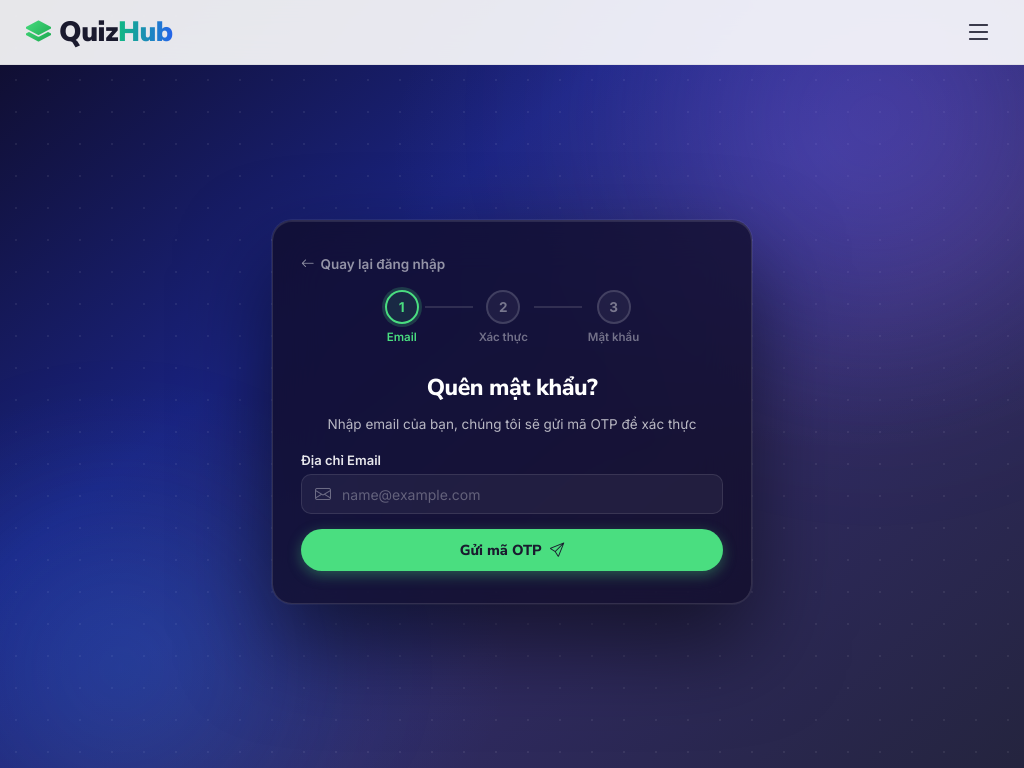
Test: ForgotPasswordPage Component - V1 4-Step Parity and Auth Behavior › 5. prevents double submission while requestOtp mutation is pending
Type "user@example.com" into the field labelled "Địa chỉ Email" at [512, 494], box [301,474,723,514]
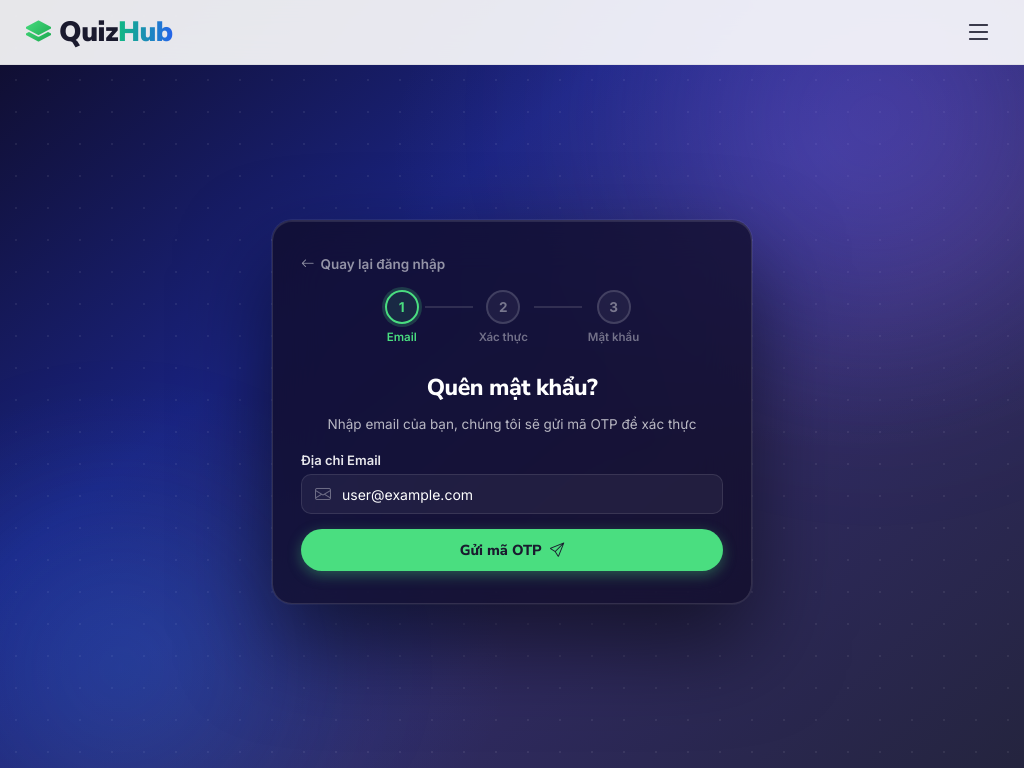
Click the button "Gửi mã OTP" at [512, 550], box [301,529,723,571]
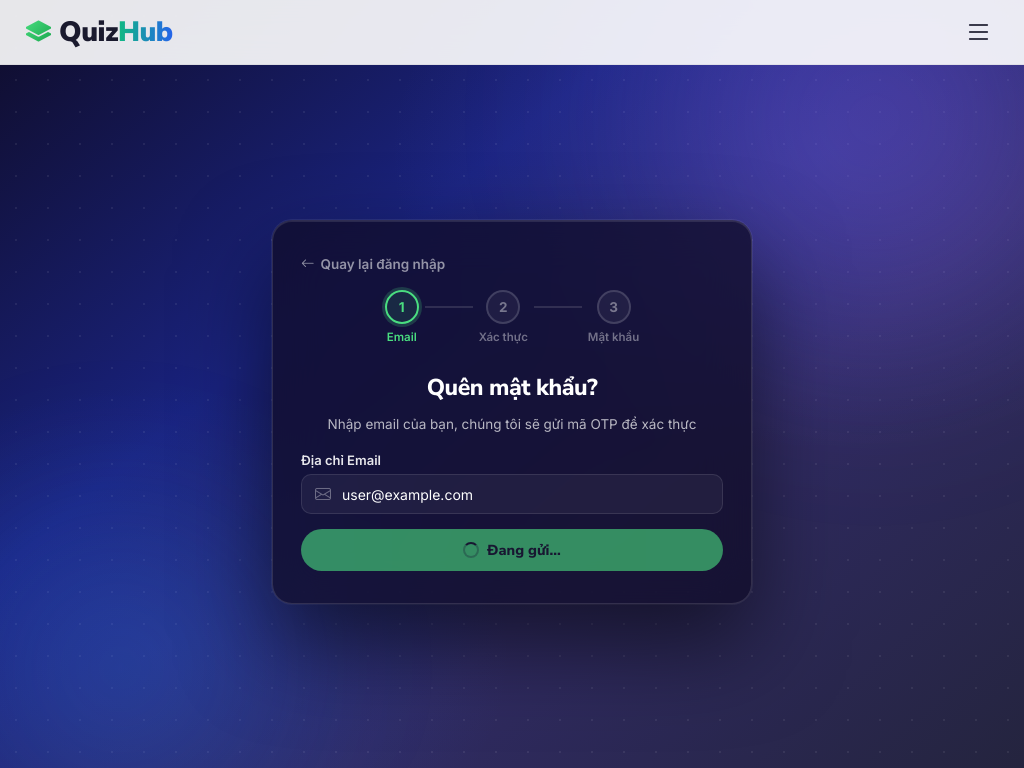
Result: the button named "Gửi mã OTP" is disabled
Result: the text "Đang gửi..." is shown at [487,540,561,560]
Second click does nothing
Click the button named "Gửi mã OTP" at [512, 550], box [301,529,723,571]
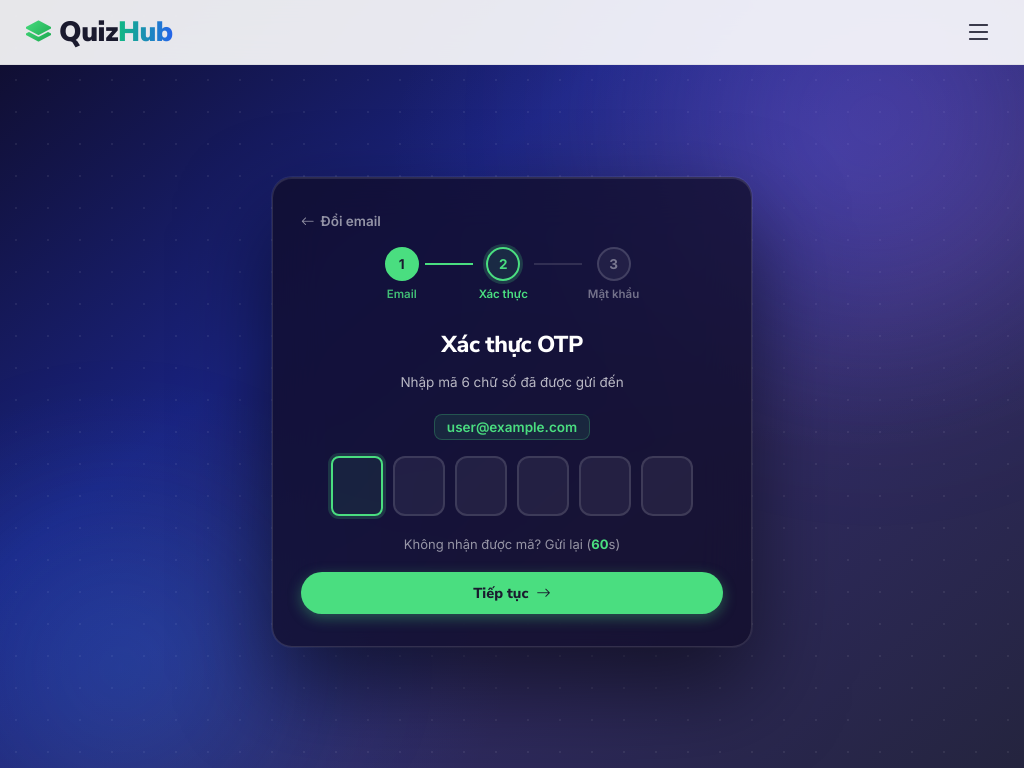
Result: the heading "Xác thực OTP" is shown at [441,329,583,360]
